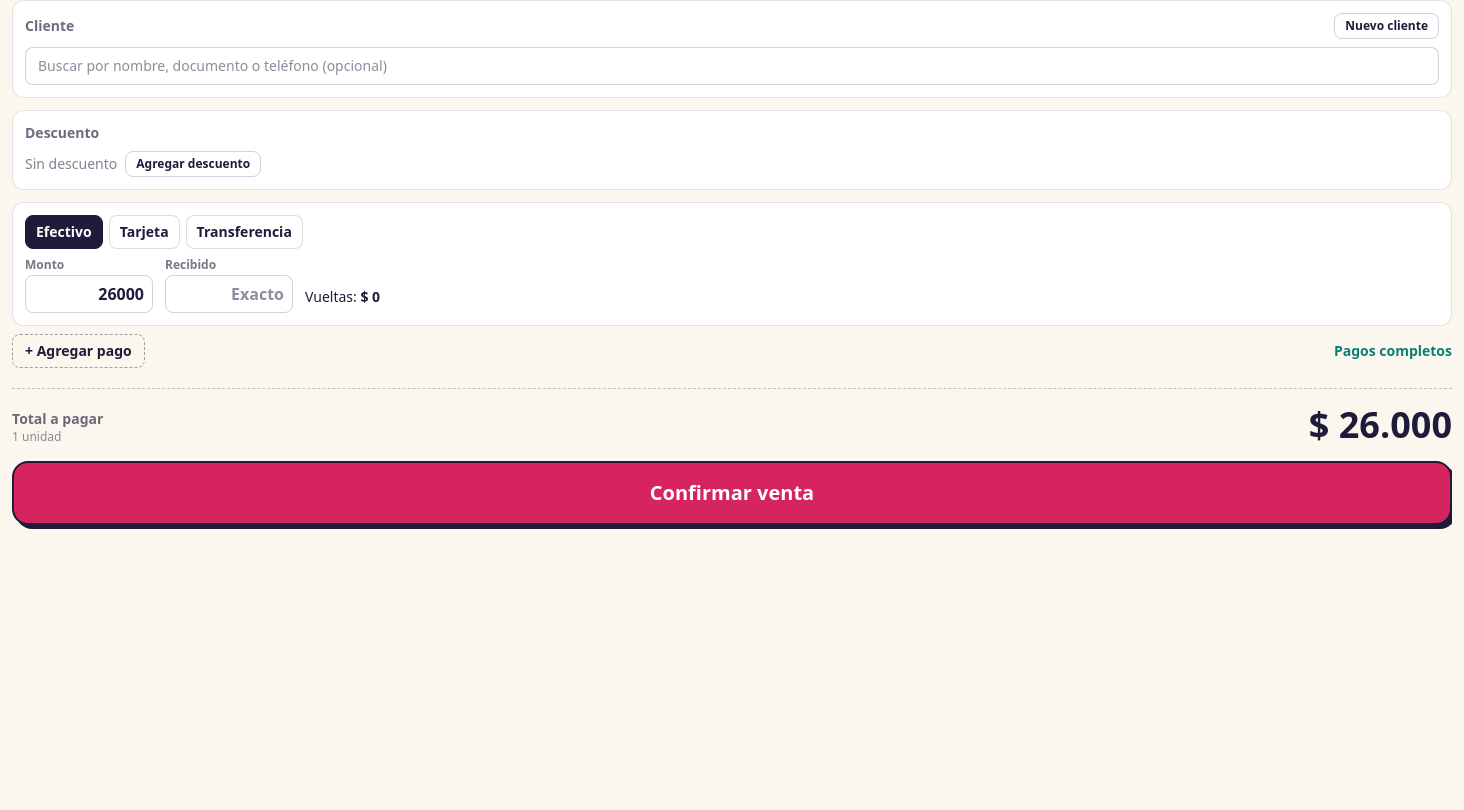
ConfirmacionPago — pagos › por defecto un pago en efectivo exacto por el total y se confirma de una vez
This screenshot has width=1464, height=810.
Expected: the field named "Monto del pago" holds "26000", [25,275,153,313]
What coordinates should you click on to do the following:
click the button "Confirmar venta"
I would click on:
 (732, 493)
Its box is [12,461,1452,525].
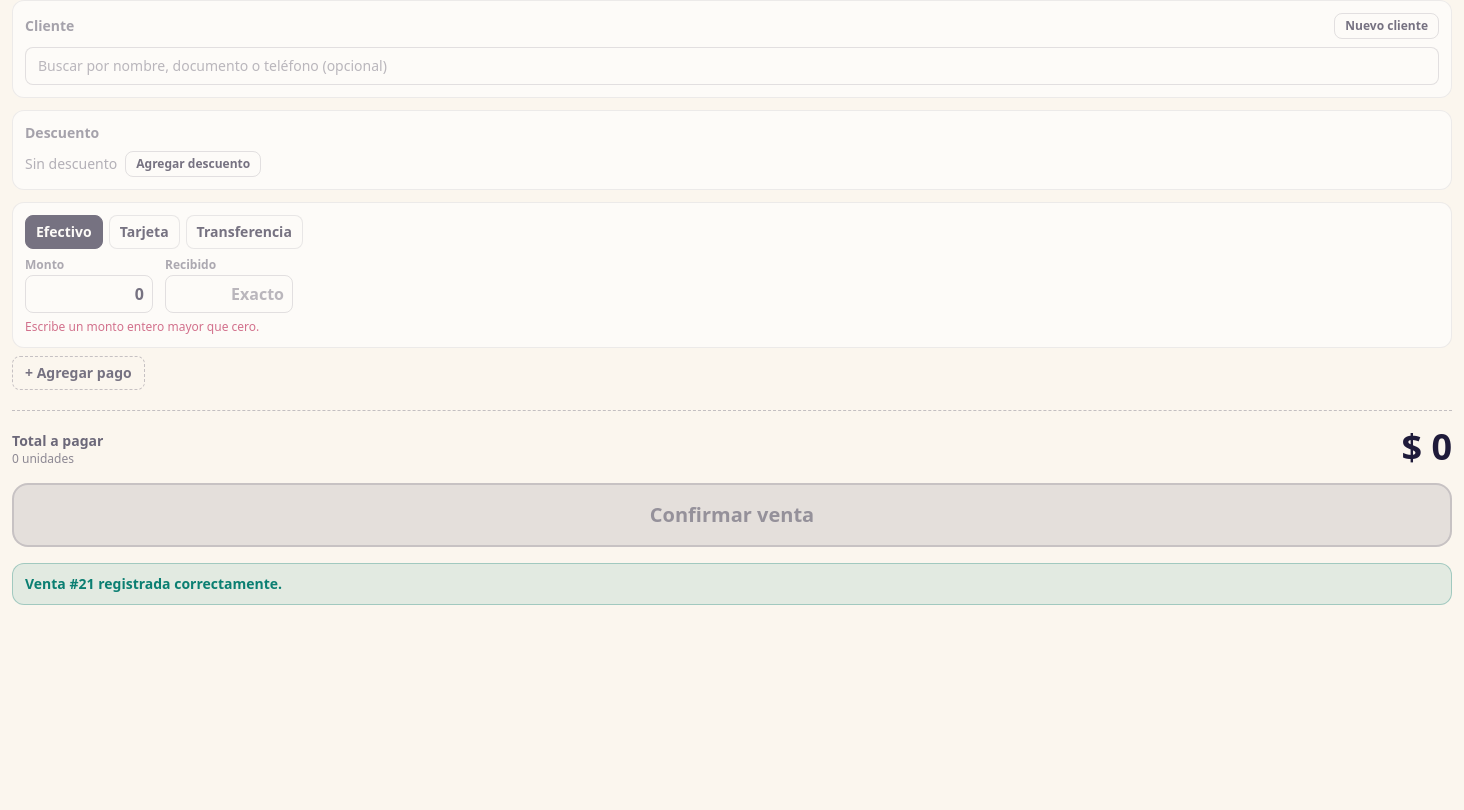
Now the text "Venta #21 registrada correctamente." is shown, box [12,563,1452,605]
